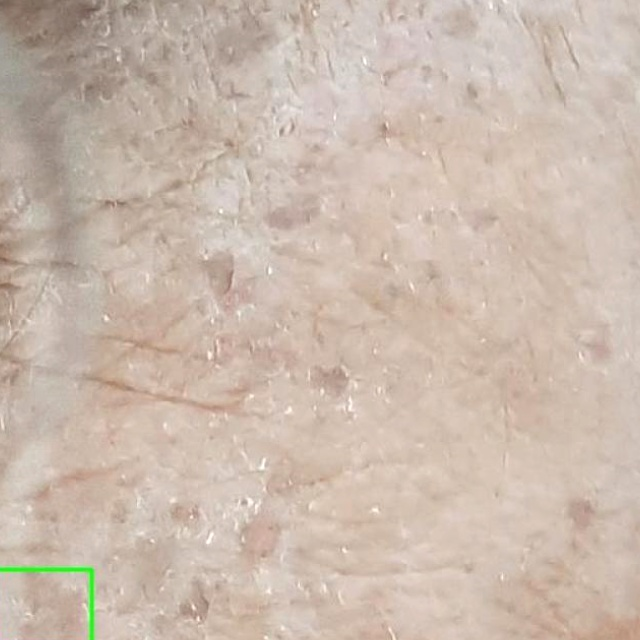Seborrheic Dermatitis: (0, 569, 92, 639)
